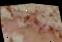plaque psoriasis: (0, 0, 62, 42), (0, 15, 32, 42)
